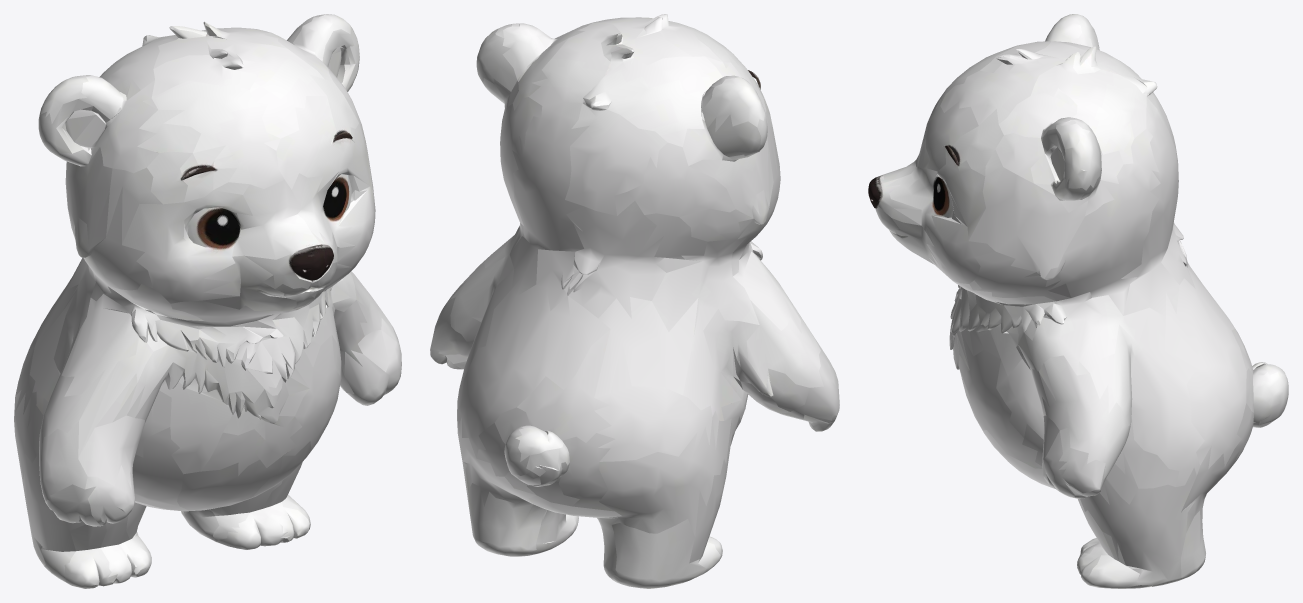
The model's file is pet_frost.glb.
3 views of the same model, side by side, from view 1: azimuth 30°, elevation 25°; view 2: azimuth 150°, elevation 25°; view 3: azimuth 270°, elevation 25° (orthographic). The views are drawn at different scales.
Size of the model in its own units: 1.46 by 1.9 by 1.49.
1 material, 1 textured.
